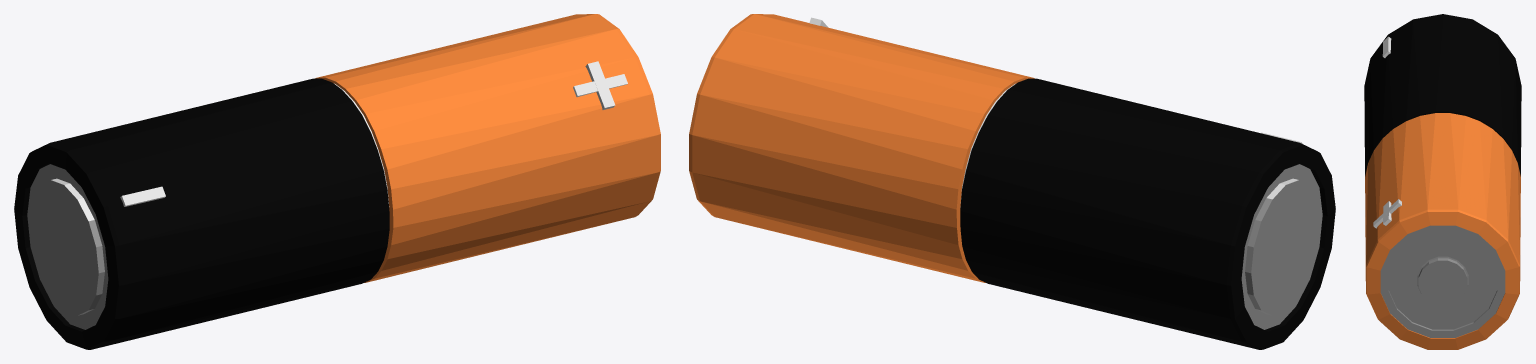
Rendered from mala_bateria.fbx.
3 views of the same model, side by side, from view 1: azimuth 30°, elevation 25°; view 2: azimuth 150°, elevation 25°; view 3: azimuth 270°, elevation 25° (orthographic). The views are drawn at different scales.
Parts seen in each view (by area): view 1: Cylinder.002; view 2: Cylinder.002; view 3: Cylinder.002.
Part boxes in pixels (bbox=[...]): Cylinder.002: bbox=[14, 14, 660, 349]; Cylinder.002: bbox=[689, 14, 1335, 349]; Cylinder.002: bbox=[1364, 14, 1521, 349].
Size of the model in its own units: 7.5 by 2.5 by 2.5.
